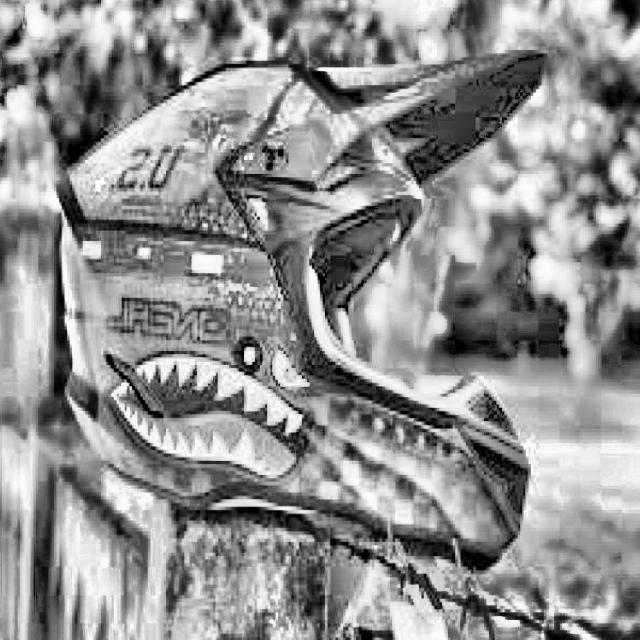Helmet: (56, 33, 563, 570)
